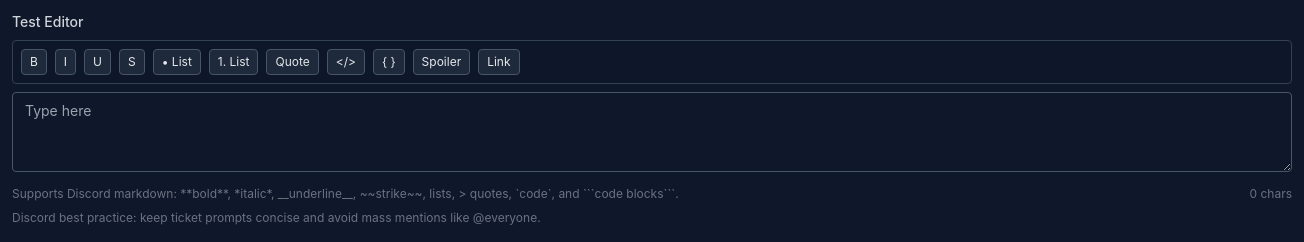
Test: DiscordMarkdownEditor › wraps selected text with bold markdown
The image size is (1304, 242).
Step 1. Type "hello world" into the text box labelled "Test Editor" → (652, 132), box left=12, top=92, right=1292, bottom=172
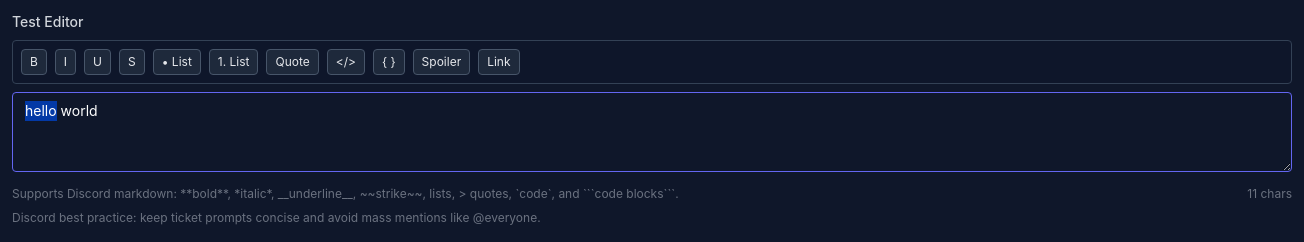
Step 2. Click the button "B" → (34, 62), box left=21, top=49, right=47, bottom=75
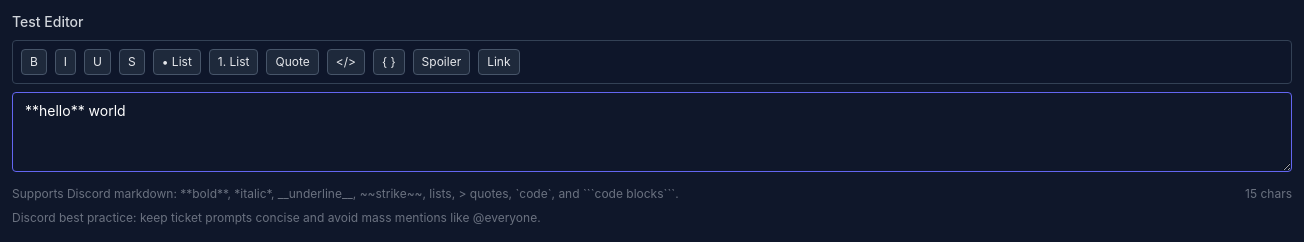
Expected: the text box labelled "Test Editor" holds "**hello** world", left=12, top=92, right=1292, bottom=172
